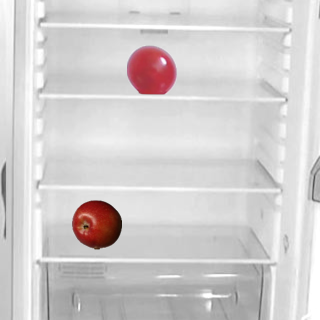Apple Braeburn: (71, 199, 121, 249)
Redcurrant: (126, 44, 176, 94)
